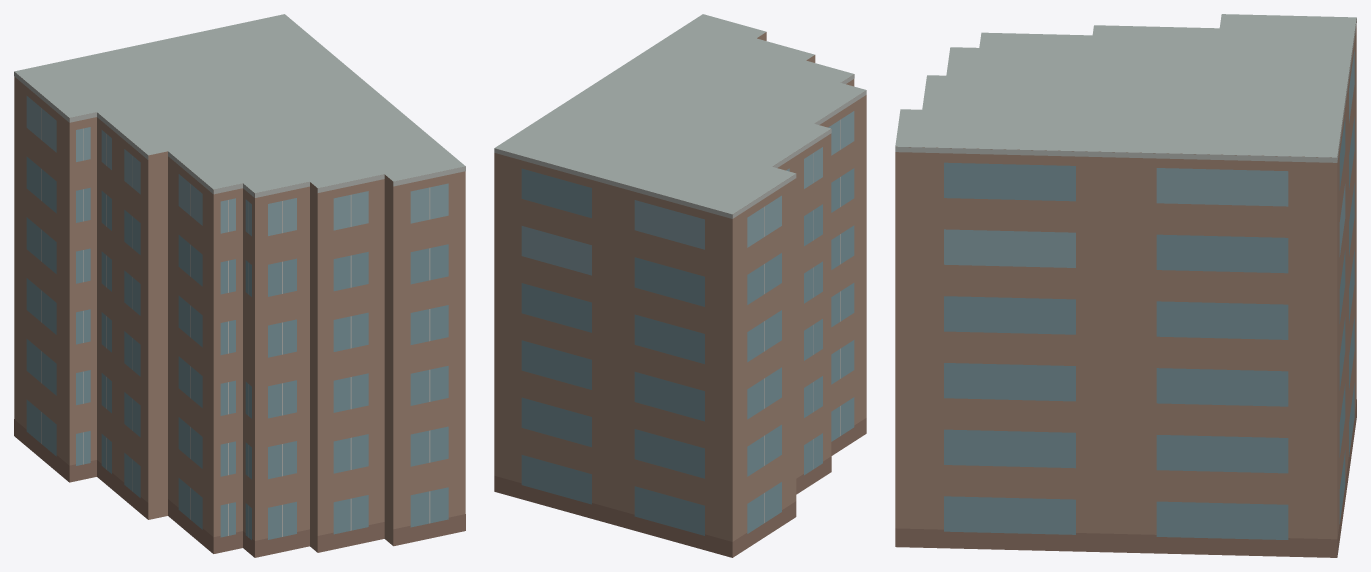
File: survey-upis-32928254.glb
The picture shows the model from 3 angles, left to right: view 1: azimuth 30°, elevation 25°; view 2: azimuth 150°, elevation 25°; view 3: azimuth 270°, elevation 25°; orthographic projection. The views are drawn at different scales.
Visible parts, largest first — view 1: survey-upis-32928254.tmp; view 2: survey-upis-32928254.tmp; view 3: survey-upis-32928254.tmp.
Boxes of the visible parts, x1,y1,x2,y2 form: survey-upis-32928254.tmp: (14, 14, 465, 557); survey-upis-32928254.tmp: (494, 14, 866, 557); survey-upis-32928254.tmp: (895, 14, 1356, 557).
Size of the model in its own units: 14.09 by 18.3 by 19.13.
